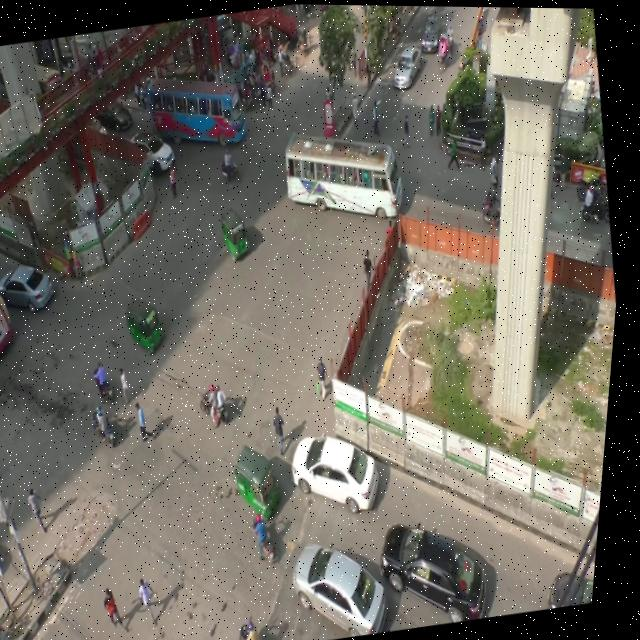cng: (232, 432, 299, 524), (121, 289, 180, 361), (216, 198, 259, 263)
rikshaw: (256, 62, 282, 101), (276, 48, 307, 78), (292, 22, 318, 56), (246, 70, 270, 106), (434, 31, 456, 70), (236, 76, 258, 114)
